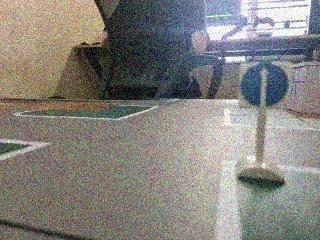straight: (237, 59, 292, 112)
